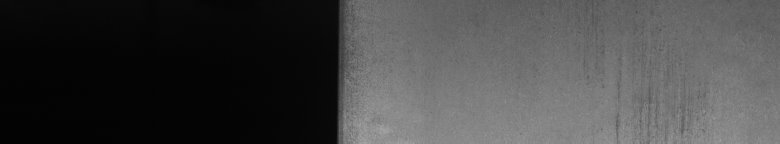ka: (616, 93, 688, 136)
